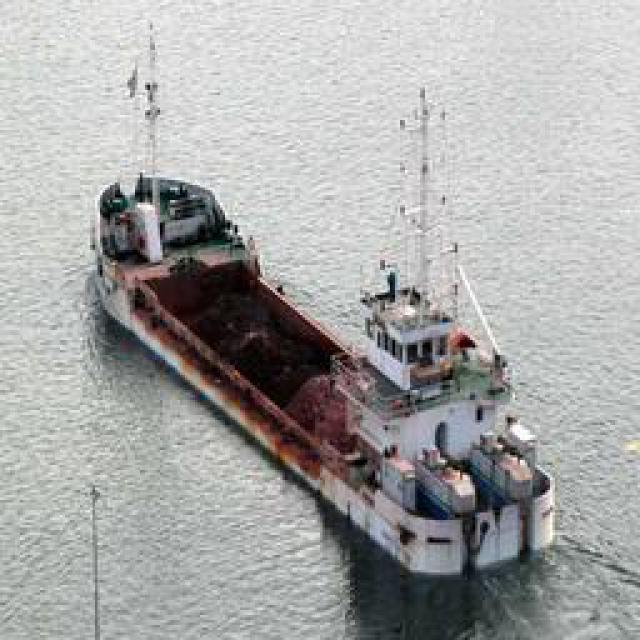Ship: (91, 56, 561, 606)
